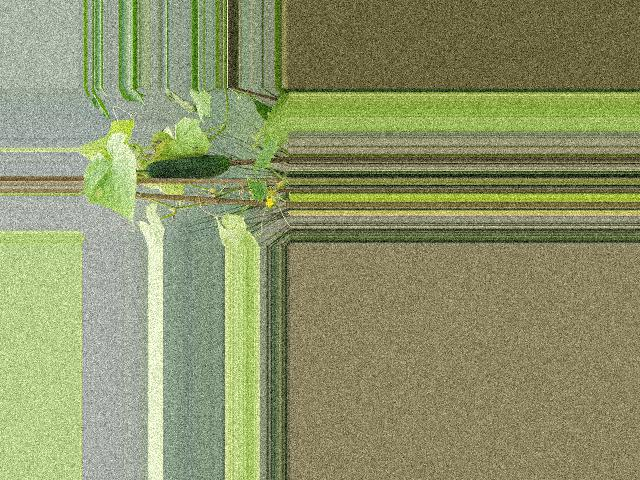cucumber: (145, 154, 231, 179)
